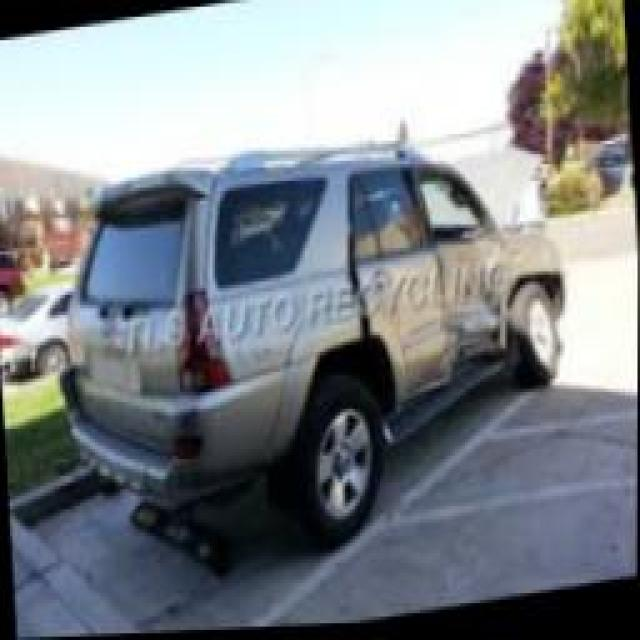replaceable: (421, 233, 517, 394)
